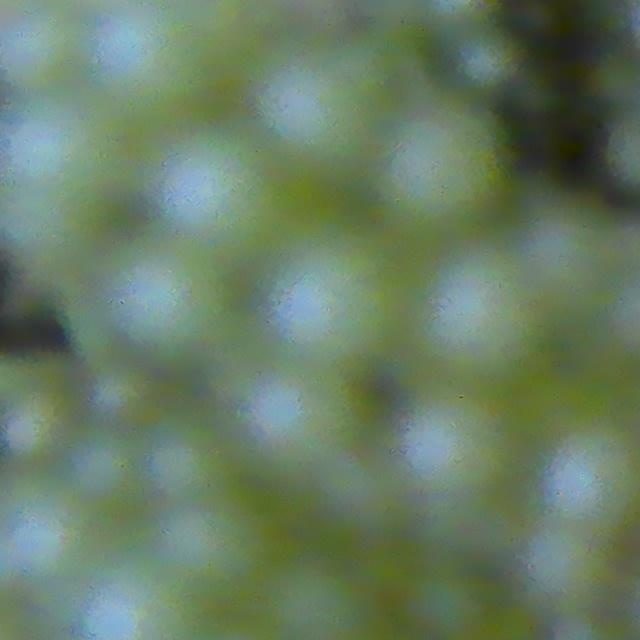SeaGrape: (420, 254, 572, 383), (362, 106, 501, 230), (262, 244, 392, 358), (152, 127, 273, 246), (273, 59, 392, 178), (86, 11, 210, 125), (389, 388, 507, 501), (101, 246, 215, 354), (0, 489, 106, 602), (229, 369, 353, 464), (0, 97, 111, 202), (549, 425, 640, 535), (265, 556, 373, 640), (520, 530, 625, 606), (143, 420, 228, 503), (403, 566, 494, 640), (66, 428, 140, 505), (0, 16, 73, 92), (0, 385, 70, 461), (0, 202, 68, 273), (455, 27, 523, 92), (89, 362, 153, 424)
